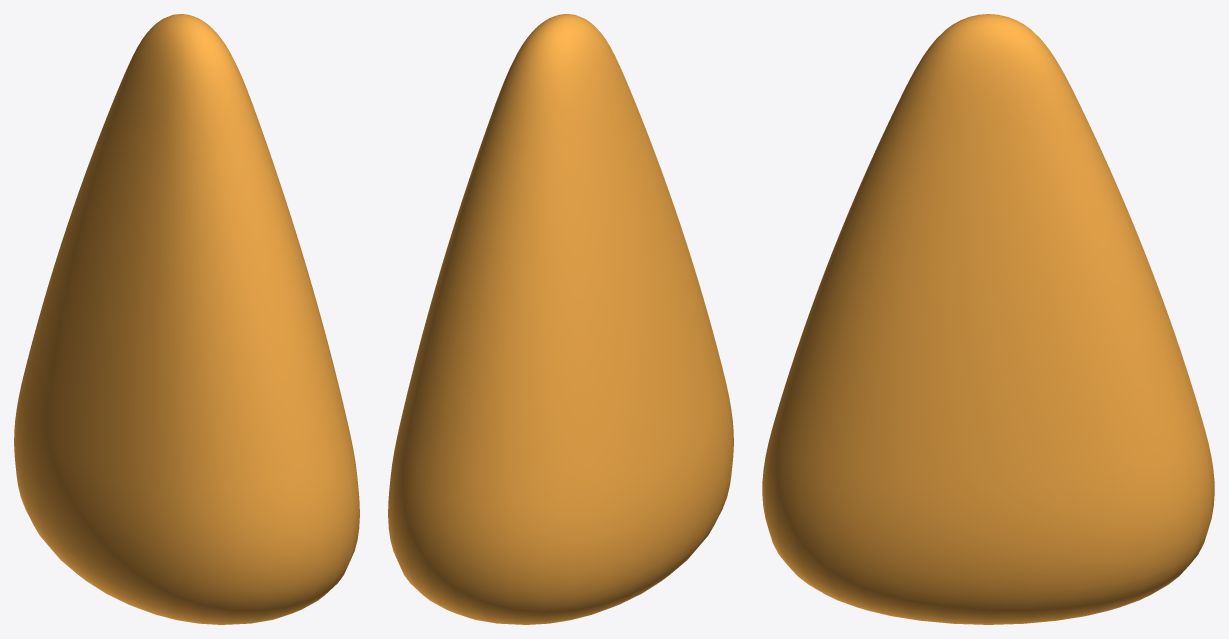
File: Bonbon.fbx
The picture shows the model from 3 angles, left to right: view 1: azimuth 30°, elevation 25°; view 2: azimuth 150°, elevation 25°; view 3: azimuth 270°, elevation 25°; orthographic projection. The views are drawn at different scales.
Visible parts, largest first — view 1: Bonbon gold; view 2: Bonbon gold; view 3: Bonbon gold.
Boxes of the visible parts, x1=… form: Bonbon gold: x1=14, y1=14, x2=359, y2=624; Bonbon gold: x1=388, y1=14, x2=733, y2=624; Bonbon gold: x1=762, y1=14, x2=1214, y2=624.
Bounding box in the file's own units: 59.04 × 124 × 87.72.
